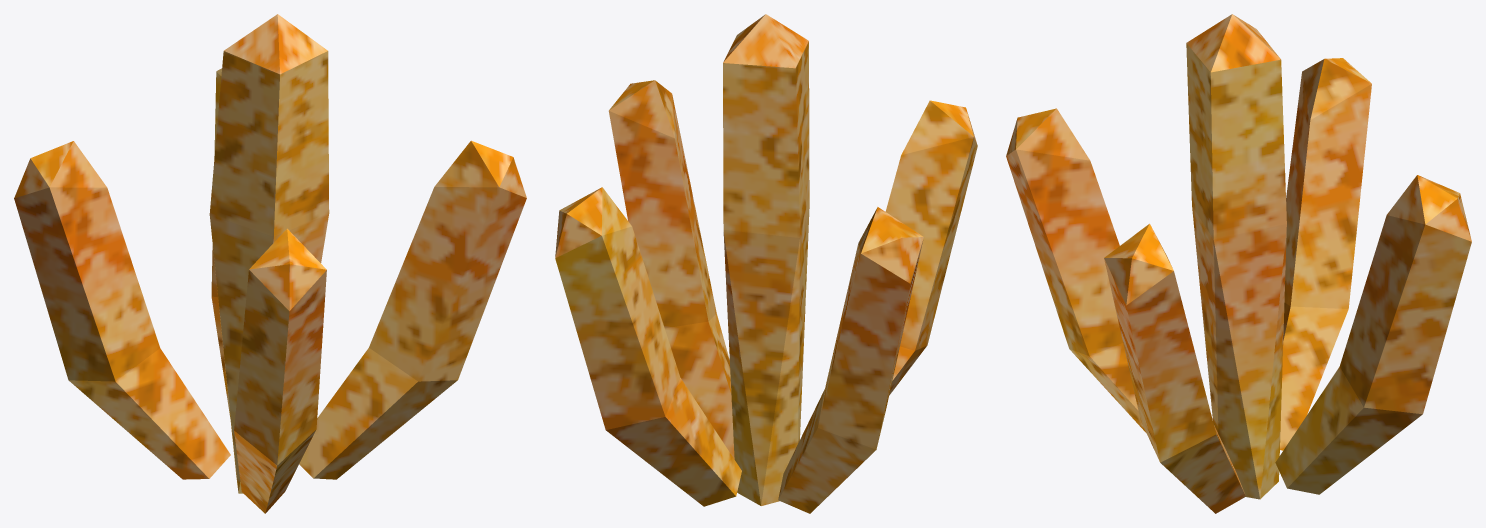
Rendered from CoralReef.fbx.
3 views of the same model, side by side, from view 1: azimuth 30°, elevation 25°; view 2: azimuth 150°, elevation 25°; view 3: azimuth 270°, elevation 25° (orthographic).
Visible parts, largest first — view 1: mesh-27.001; view 2: mesh-27.001; view 3: mesh-27.001.
Boxes of the visible parts, bbox=[...] form: mesh-27.001: bbox=[14, 14, 526, 513]; mesh-27.001: bbox=[555, 14, 977, 513]; mesh-27.001: bbox=[1006, 14, 1471, 513].
Bounding box in the file's own units: 205 × 233 × 205.
Materials: 1 (1 with a texture image).
